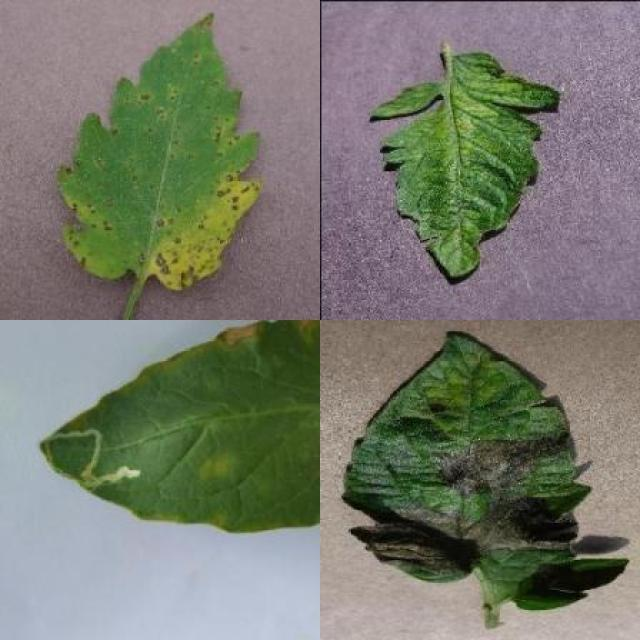Late Blight: (340, 332, 630, 612)
Leaf Miner: (34, 320, 320, 534)
Mosaic Virus: (366, 54, 561, 280)
Septoria: (55, 12, 265, 294)
